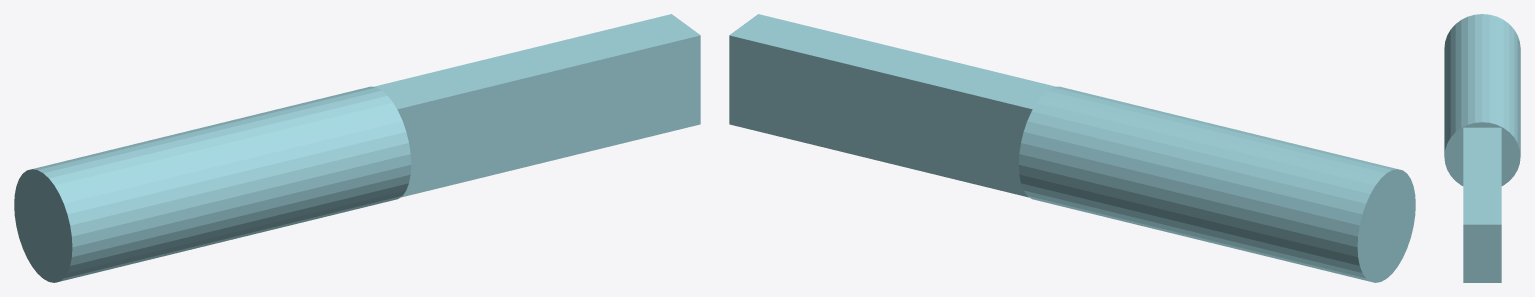
Rendered from cylinder_spatula_v6010.obj.
3 renders of one model, left to right at view 1: azimuth 30°, elevation 25°; view 2: azimuth 150°, elevation 25°; view 3: azimuth 270°, elevation 25°, orthographic. The views are drawn at different scales.
Bounding box in the file's own units: 0.3139 × 0.0492 × 0.0492.
1 material, 1 textured.
